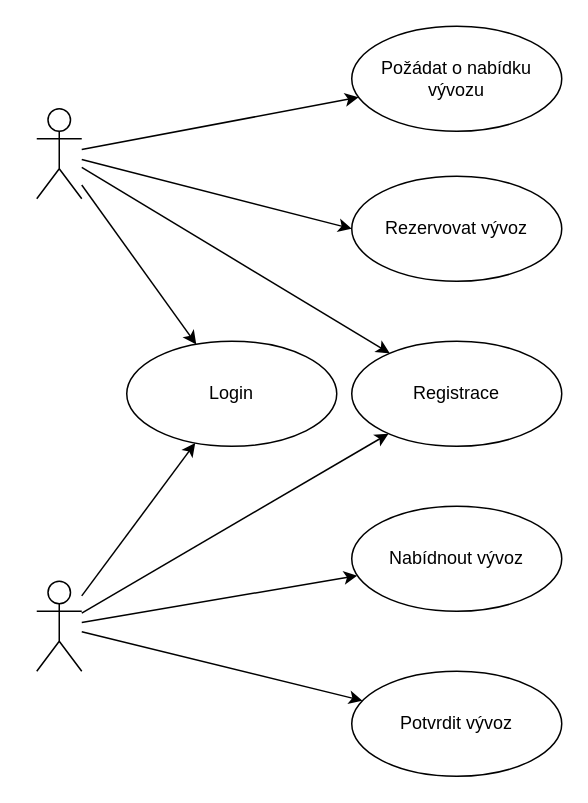
This 588x803 diagram has some shape labels left out. The shapes that lost their labels are listed below. From the top down, each one's centre as x and y in pixels, then its label:
At (x=58, y=153): "Pasažér".
At (x=58, y=625): "Vývozce".
